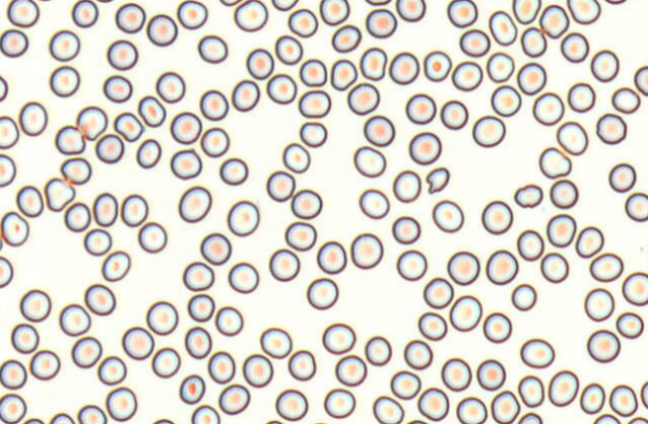RBC: (178, 185, 211, 222), (350, 232, 383, 269), (449, 295, 482, 331), (485, 249, 518, 285), (227, 199, 259, 236), (547, 369, 579, 406), (447, 250, 480, 285), (586, 329, 620, 362), (408, 131, 441, 165), (43, 177, 75, 212), (105, 386, 137, 421), (146, 300, 178, 335), (275, 388, 308, 421), (58, 303, 91, 336), (122, 326, 154, 360), (19, 288, 51, 322), (417, 387, 449, 421), (481, 200, 513, 234), (556, 121, 588, 155), (532, 91, 564, 125), (76, 105, 107, 140), (233, 0, 268, 31), (334, 354, 367, 386), (268, 248, 300, 281), (322, 322, 355, 354), (353, 145, 386, 177), (538, 146, 571, 178), (347, 82, 379, 115), (472, 115, 505, 147), (242, 353, 273, 387), (18, 101, 48, 136), (0, 210, 29, 246), (488, 10, 517, 46), (306, 277, 338, 309), (84, 283, 116, 315), (227, 261, 259, 293), (200, 232, 231, 265), (259, 327, 292, 358), (432, 199, 463, 232), (146, 13, 177, 46), (170, 111, 201, 144), (441, 357, 471, 391), (520, 338, 554, 368), (316, 240, 346, 274), (584, 287, 614, 321), (546, 213, 576, 247), (589, 252, 623, 282), (539, 4, 569, 38), (218, 383, 250, 414), (71, 336, 102, 368), (170, 148, 202, 179), (290, 188, 322, 219), (396, 249, 427, 281), (49, 65, 80, 97), (363, 115, 395, 146), (49, 29, 80, 61), (106, 39, 138, 70), (490, 84, 521, 116), (490, 390, 520, 423), (516, 62, 546, 95), (389, 51, 419, 84), (422, 277, 453, 308), (113, 111, 144, 142), (29, 349, 60, 380), (358, 188, 389, 219), (266, 73, 297, 104), (451, 60, 482, 91), (405, 93, 436, 124), (182, 261, 214, 291), (284, 221, 316, 251), (323, 388, 355, 418), (137, 221, 167, 253), (155, 71, 185, 103), (365, 8, 397, 38), (392, 169, 421, 202), (575, 225, 604, 258), (298, 89, 331, 118), (590, 49, 619, 82), (54, 125, 85, 155), (115, 2, 145, 33), (596, 113, 626, 144), (476, 358, 505, 390), (151, 346, 180, 378), (137, 95, 166, 127), (287, 349, 316, 381), (231, 79, 260, 111), (245, 47, 274, 79), (207, 350, 235, 383), (609, 384, 637, 417), (120, 193, 148, 226), (359, 47, 387, 80), (390, 370, 421, 399), (10, 322, 39, 353), (266, 170, 295, 201), (214, 305, 243, 336), (403, 339, 432, 370), (540, 252, 569, 283), (482, 312, 511, 343), (101, 250, 130, 281), (176, 0, 207, 29), (200, 126, 229, 157), (287, 8, 318, 37), (197, 34, 228, 63), (199, 89, 228, 120), (459, 28, 490, 57), (560, 31, 589, 62), (372, 395, 404, 423), (184, 326, 212, 358), (516, 229, 544, 261), (6, 0, 39, 27), (621, 271, 647, 305), (92, 192, 118, 226), (417, 311, 447, 340), (97, 355, 126, 385), (95, 133, 124, 163), (549, 178, 578, 208), (60, 157, 91, 185), (282, 142, 310, 173), (486, 51, 514, 82), (423, 50, 451, 81), (455, 396, 487, 423), (16, 185, 43, 217), (517, 375, 544, 407), (330, 58, 357, 90), (391, 215, 420, 244), (102, 74, 132, 102), (274, 34, 302, 64), (608, 162, 636, 192), (331, 24, 361, 52), (567, 82, 595, 112), (440, 99, 468, 129), (64, 201, 91, 232), (364, 335, 391, 366), (446, 0, 477, 27), (520, 26, 547, 57), (579, 382, 605, 414), (567, 0, 601, 24), (0, 28, 28, 57), (187, 293, 215, 322), (615, 311, 644, 339), (219, 157, 248, 185), (299, 58, 327, 87), (611, 86, 640, 114), (0, 359, 27, 389), (83, 228, 112, 255), (0, 393, 26, 423), (179, 374, 205, 404), (135, 138, 161, 168), (71, 0, 98, 28), (319, 0, 349, 25), (299, 121, 327, 147), (514, 183, 543, 208), (511, 283, 536, 311), (512, 0, 540, 24), (624, 192, 647, 221), (0, 115, 19, 149), (395, 0, 425, 21), (190, 404, 220, 423), (77, 404, 106, 423), (0, 153, 16, 187), (0, 255, 13, 287), (634, 65, 647, 96), (271, 0, 298, 11), (49, 412, 75, 423), (517, 412, 542, 423), (593, 413, 620, 423), (640, 380, 648, 409), (0, 75, 8, 102), (364, 0, 391, 6), (627, 416, 647, 423), (219, 0, 242, 6), (22, 417, 44, 423), (151, 418, 174, 423), (604, 0, 627, 5), (406, 419, 427, 423), (264, 419, 282, 423), (96, 0, 114, 3)
Schistocyte: (426, 167, 450, 195)
